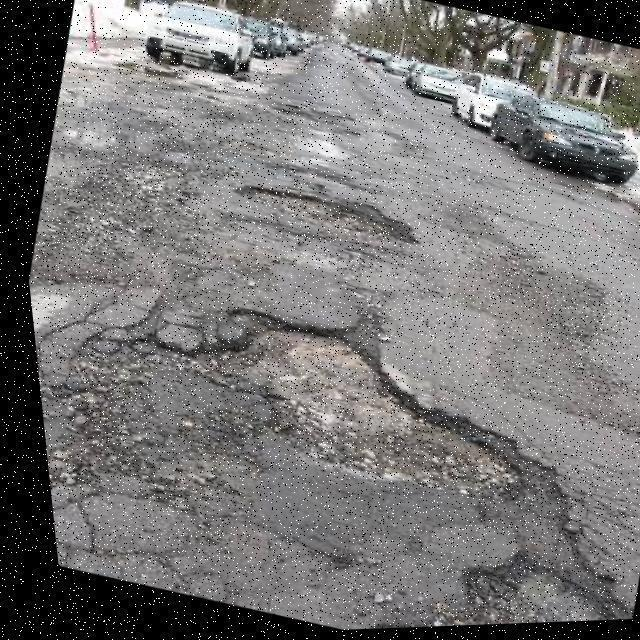Pothole: (191, 315, 518, 489)
